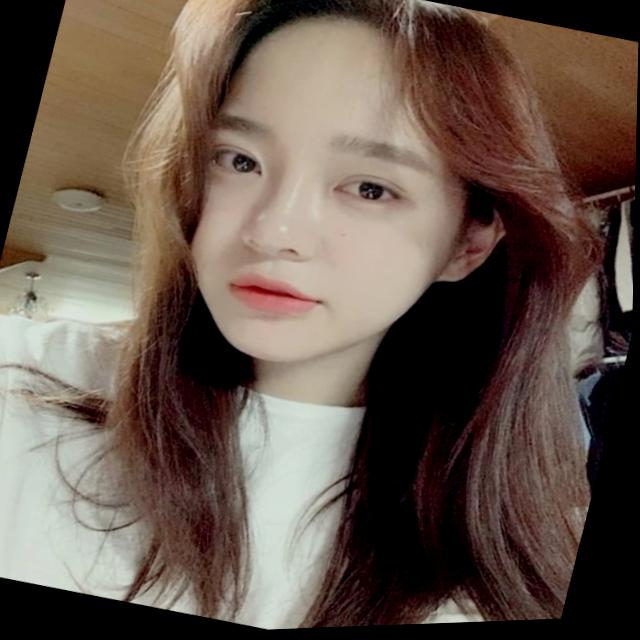face: (135, 0, 496, 405)
